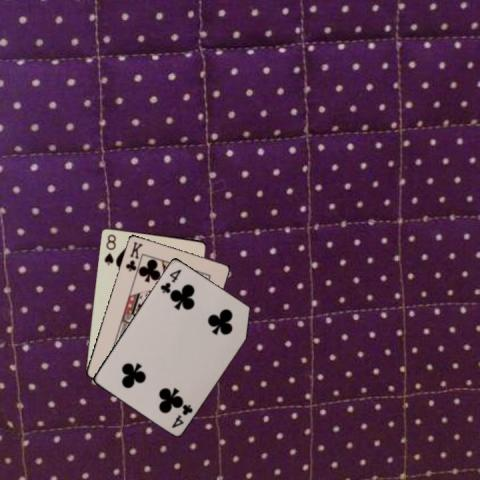4c: (157, 265, 183, 295), (169, 401, 194, 429)
8s: (102, 231, 118, 267)
Kc: (123, 239, 143, 272)
